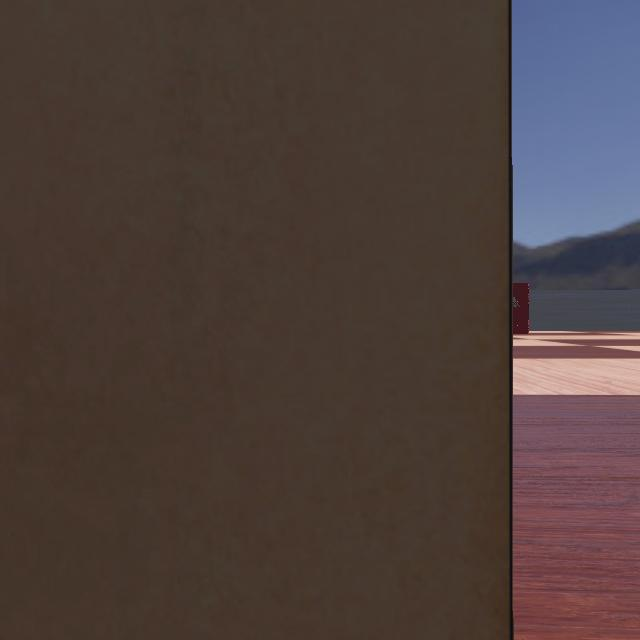cardboard-box: (1, 1, 640, 640)
